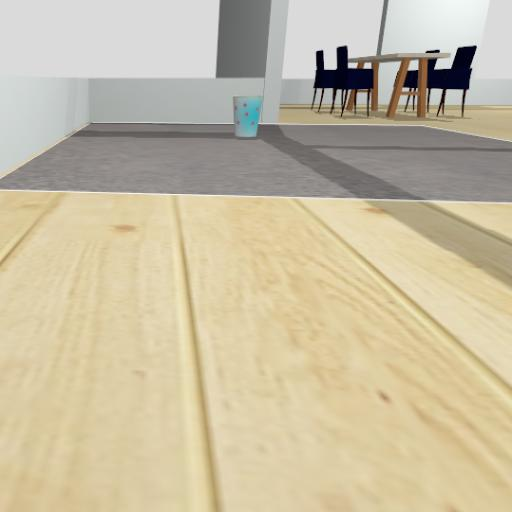Trash: (222, 74, 280, 159)
